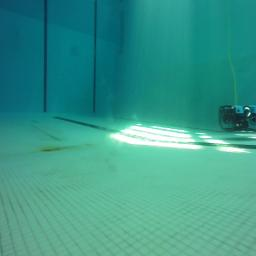front: (219, 105, 256, 132)
